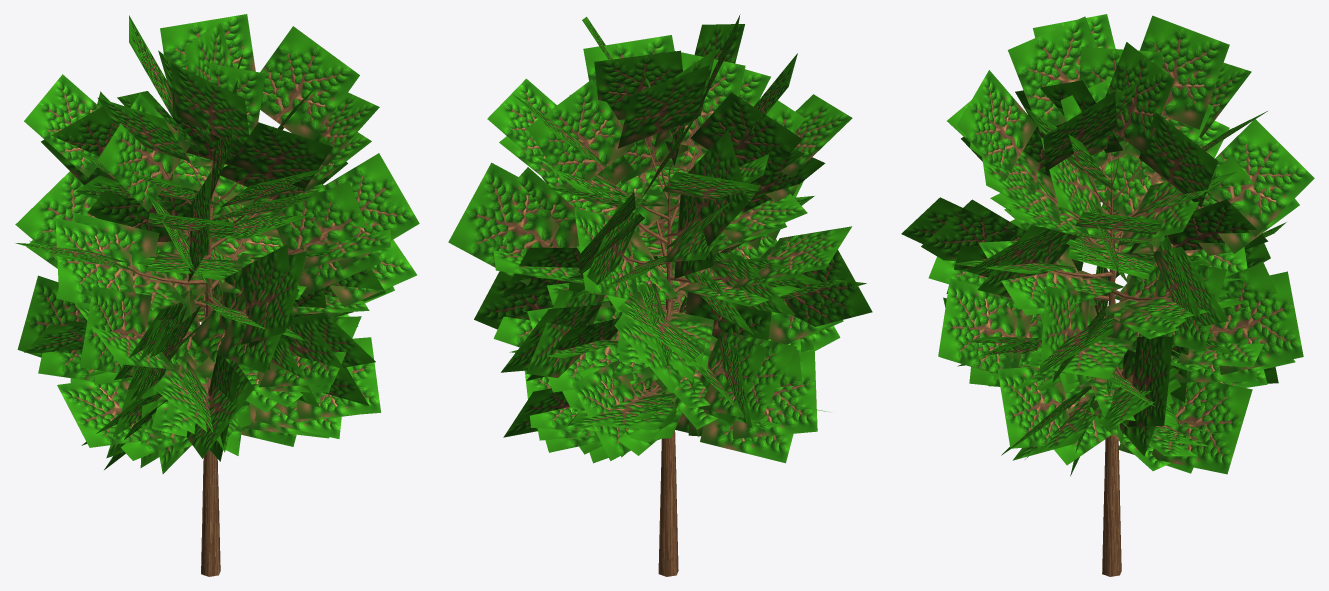
The model's file is Nature_tree01.fbx.
The picture shows the model from 3 angles, left to right: view 1: azimuth 30°, elevation 25°; view 2: azimuth 150°, elevation 25°; view 3: azimuth 270°, elevation 25°; orthographic projection. The views are drawn at different scales.
Parts seen in each view (by area): view 1: leaves, tree; view 2: leaves, tree; view 3: leaves, tree.
Part boxes in pixels (x1,y1,x2,y2): leaves: (15, 14, 419, 473); tree: (114, 126, 319, 576); leaves: (448, 14, 872, 463); tree: (597, 118, 722, 576); leaves: (901, 14, 1314, 476); tree: (1024, 142, 1209, 576).
Bounding box in the file's own units: 2.92 × 4.3 × 3.04.
